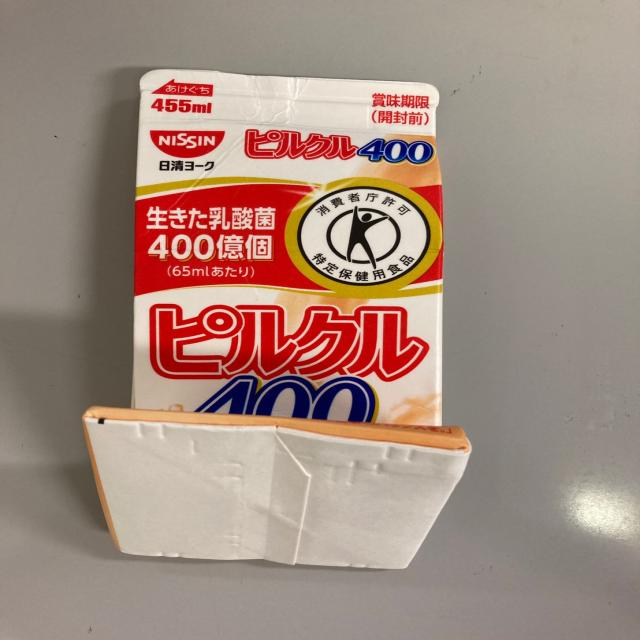Aluminium Foil: (98, 65, 460, 568)
